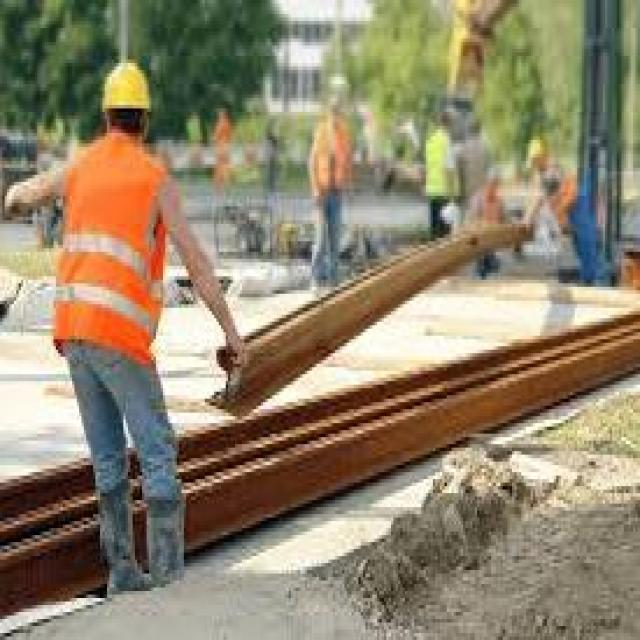reflective_jacket: (41, 136, 177, 377)
safety_helmet: (90, 52, 160, 129)
